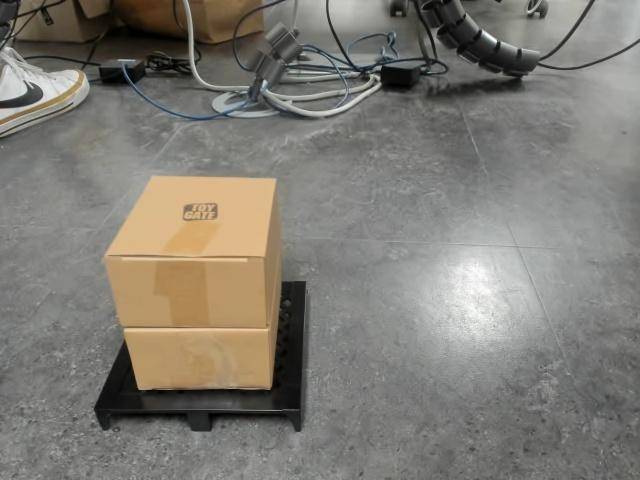box: (96, 173, 309, 429)
